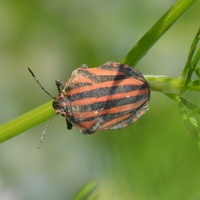insect: (53, 61, 149, 133)
